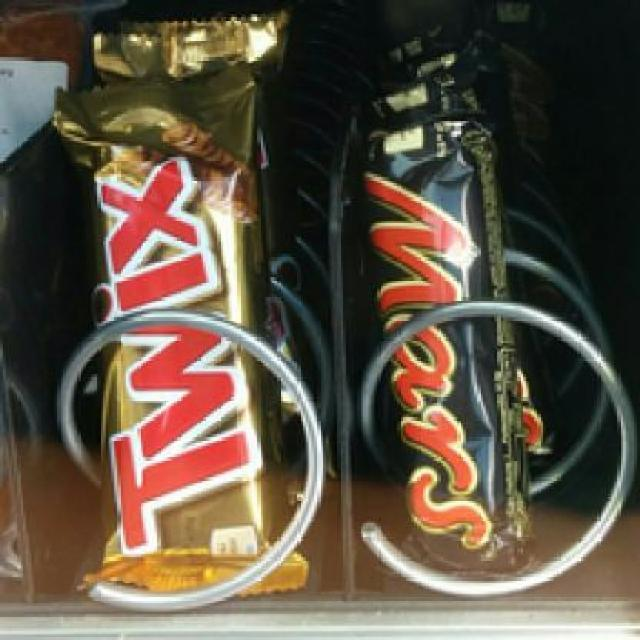Chocolate bar: (43, 66, 308, 591), (363, 94, 531, 576)
